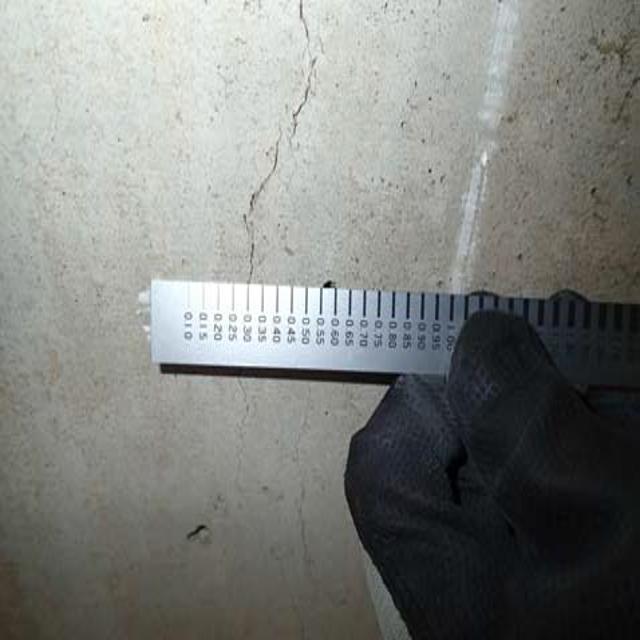crack: (233, 3, 328, 278), (224, 389, 339, 604)
